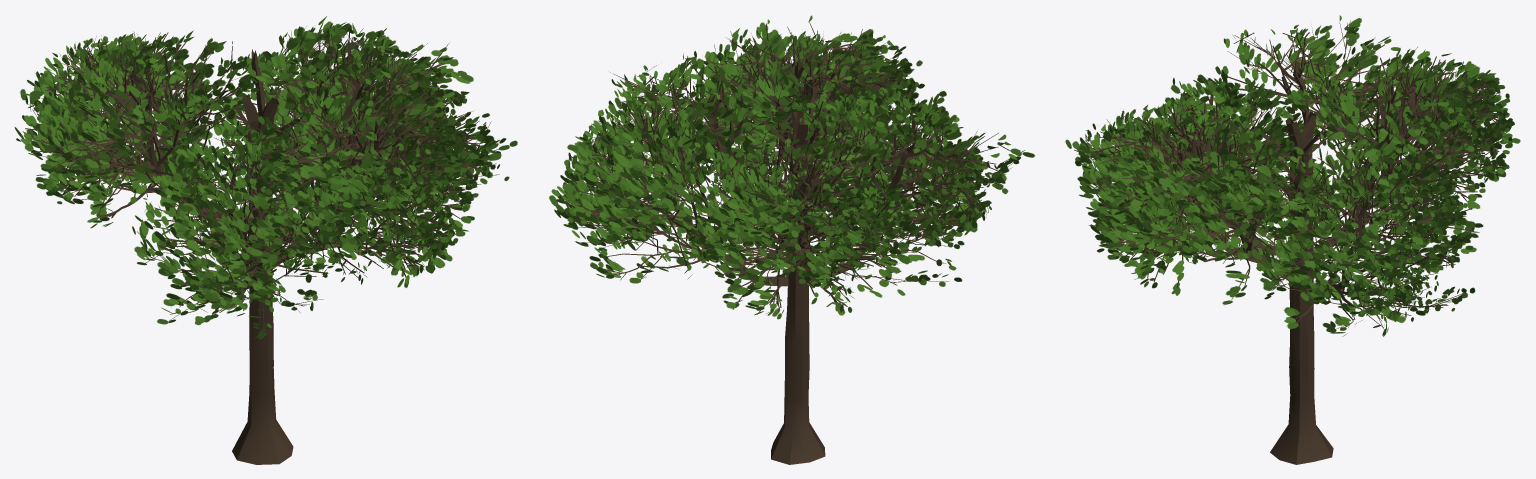
3 views of the same model, side by side, from view 1: azimuth 30°, elevation 25°; view 2: azimuth 150°, elevation 25°; view 3: azimuth 270°, elevation 25° (orthographic). The views are drawn at different scales.
Parts seen in each view (by area): view 1: oak 01.001_trunk_Mat.001_0.105; view 2: oak 01.001_trunk_Mat.001_0.105; view 3: oak 01.001_trunk_Mat.001_0.105.
Boxes of the visible parts, <box> form: oak 01.001_trunk_Mat.001_0.105: <box>14,16,517,464</box>; oak 01.001_trunk_Mat.001_0.105: <box>549,15,1034,464</box>; oak 01.001_trunk_Mat.001_0.105: <box>1065,15,1520,464</box>.
Bounding box in the file's own units: 4.09 × 3.38 × 3.98.
2 materials, 1 textured.
